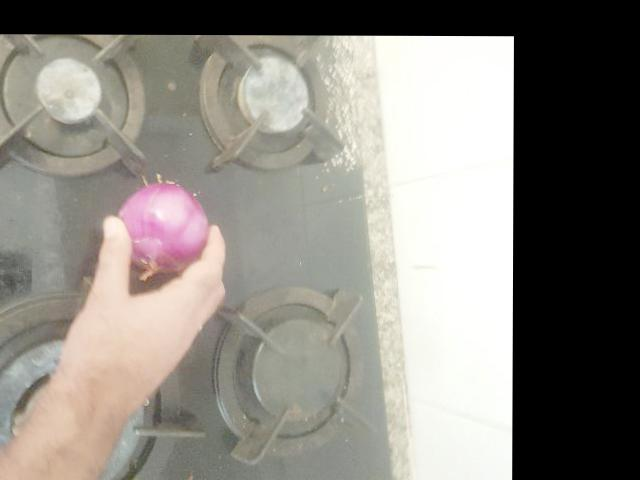onion: (266, 109, 355, 211)
